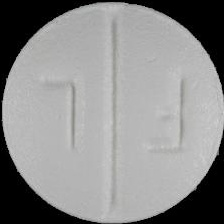63629-3318: (0, 0, 224, 224)
